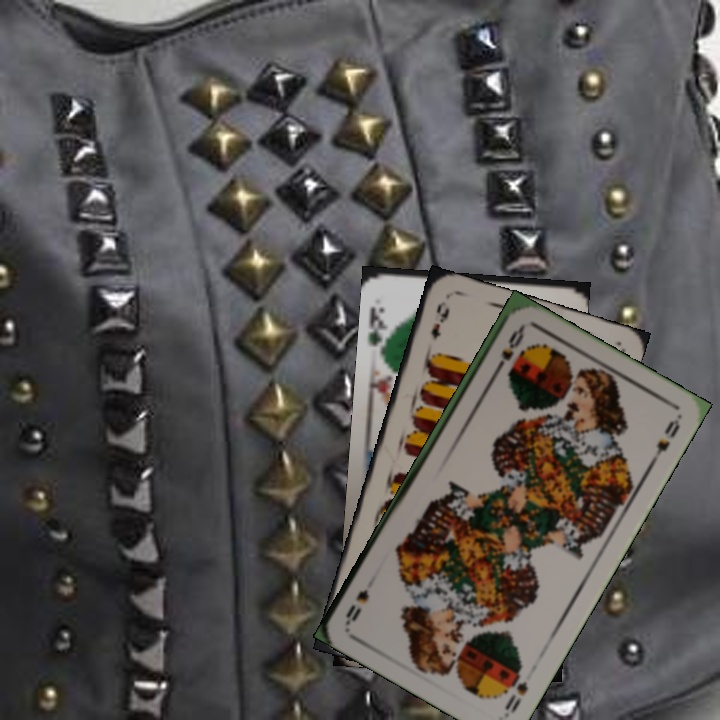E9: (426, 297, 452, 341)
GK: (364, 302, 392, 351)
SO: (490, 323, 527, 377), (500, 670, 531, 718)
